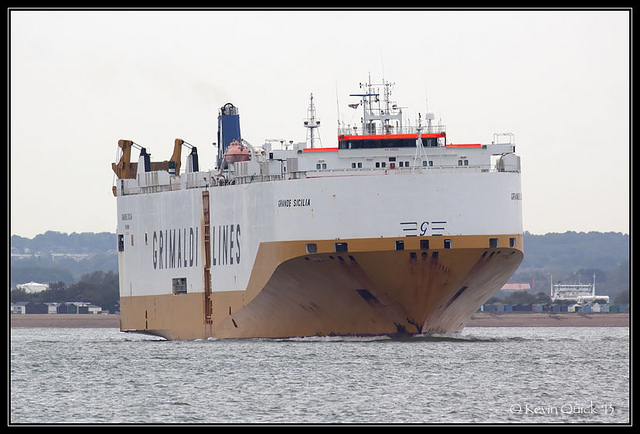PCC: (112, 85, 532, 336)
